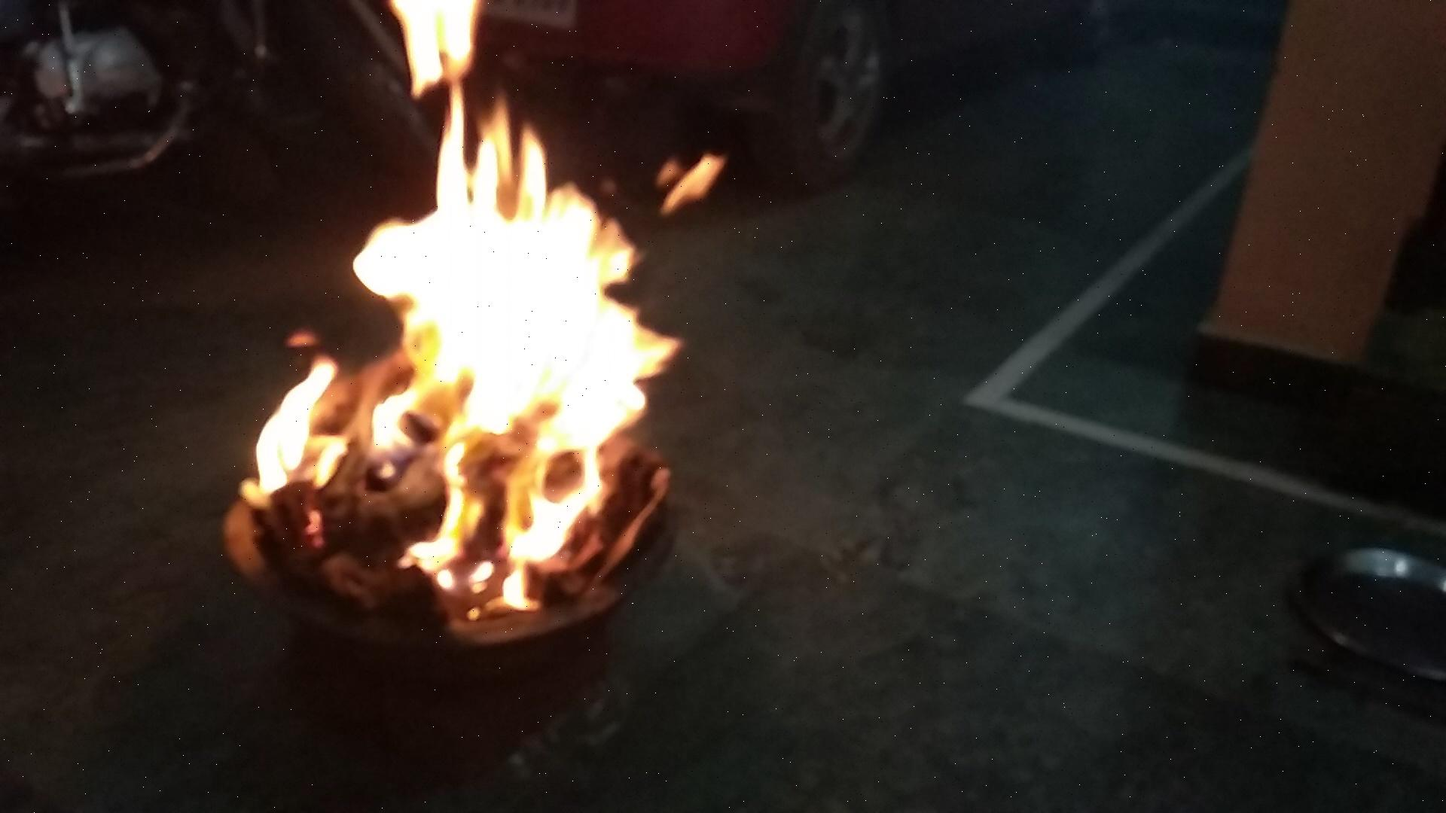fire: (235, 15, 715, 558)
